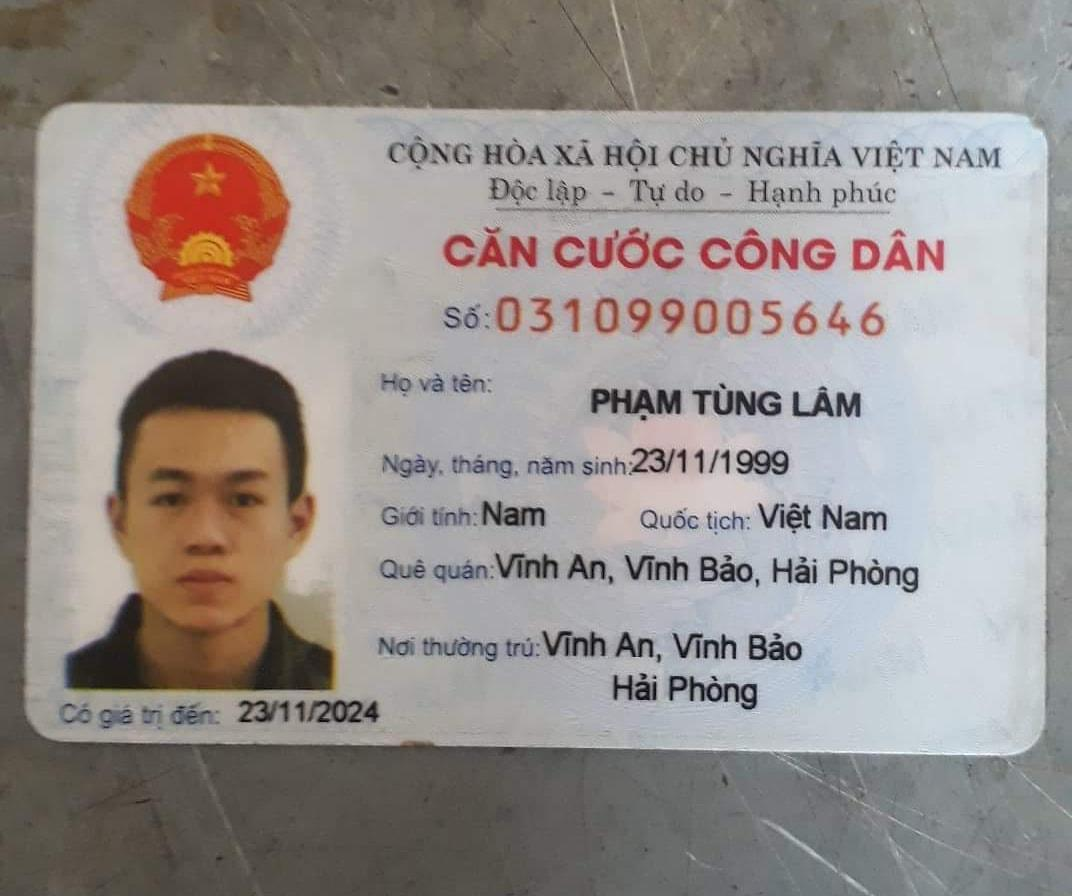bottom_left: (10, 680, 57, 750)
bottom_right: (1006, 688, 1062, 764)
image_person: (72, 334, 347, 690)
top_left: (24, 90, 90, 151)
top_right: (994, 94, 1063, 158)
